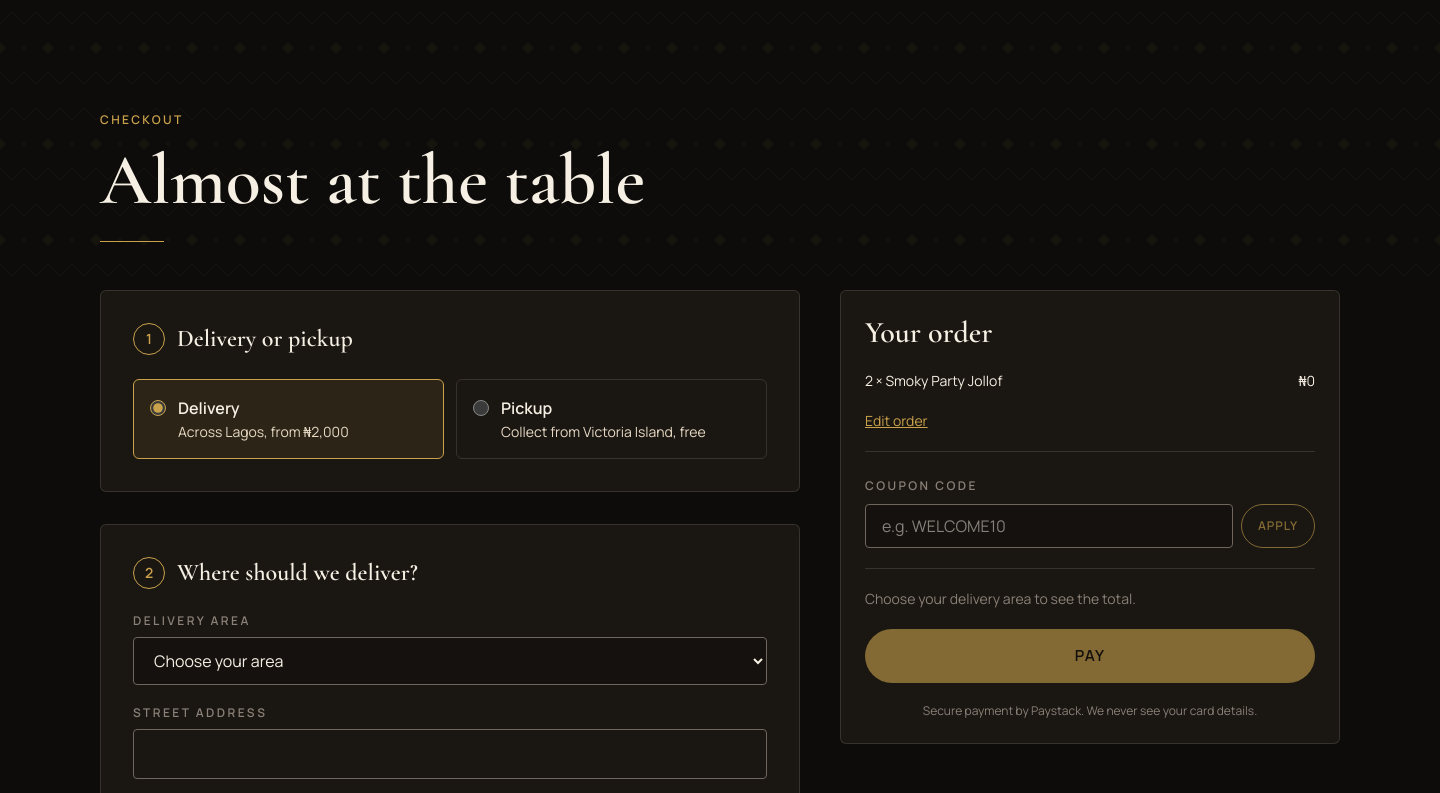
it: CheckoutPage › validates contact details before placing the order
Click the radio button labelled "Pickup Collect from Victoria Island, free" at [481, 408], box [473,400,489,416]
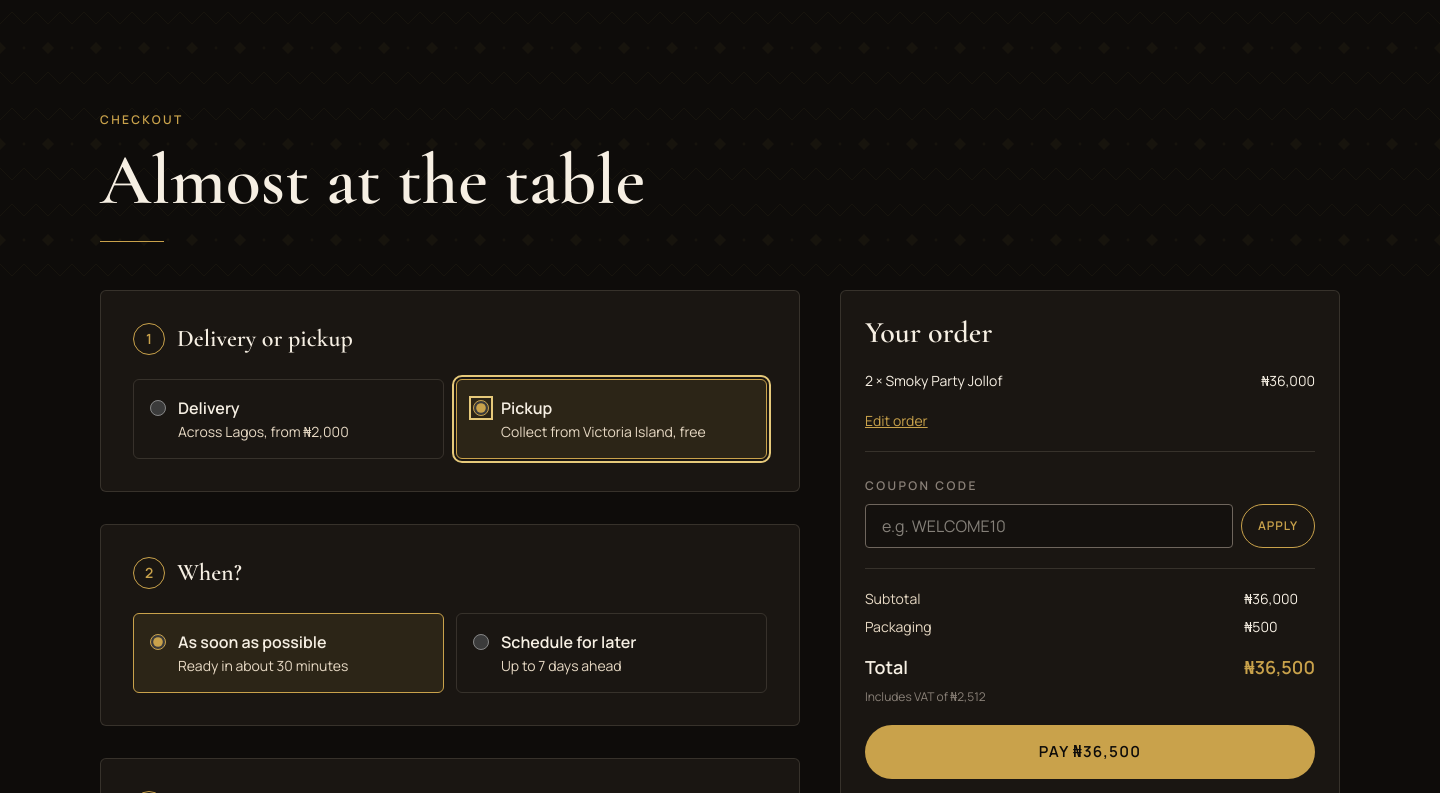
Click the button "Pay ₦36,500" at [1090, 752], box [865,725,1315,779]
(page scrolled)
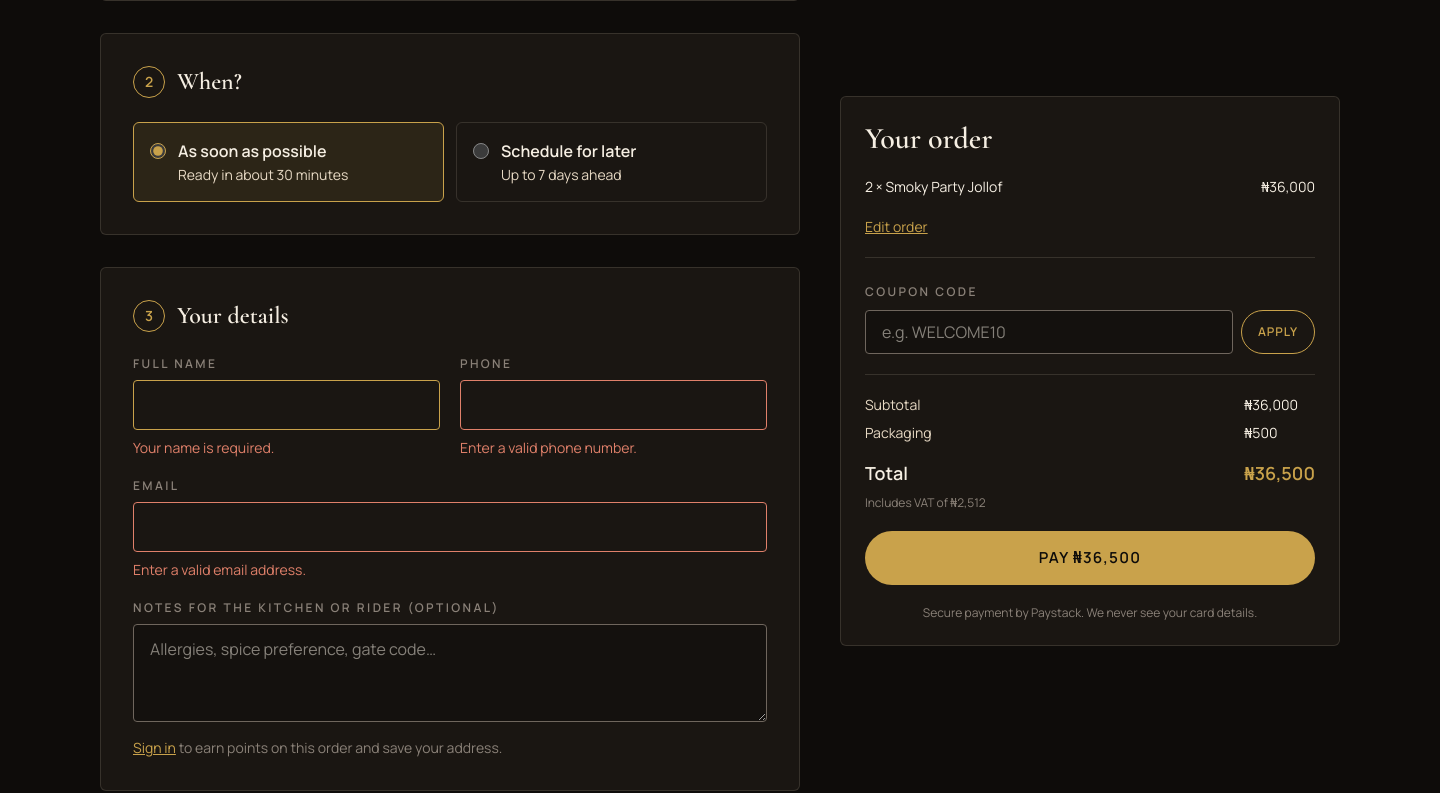
Expected: the text "Your name is required." is shown, [133,438,274,457]
